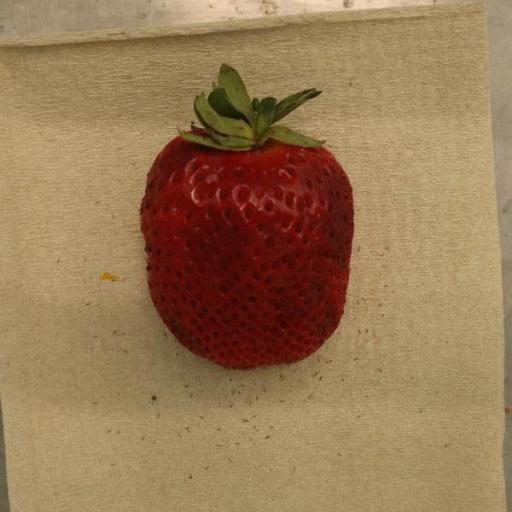Strawberry: (141, 64, 354, 370)
